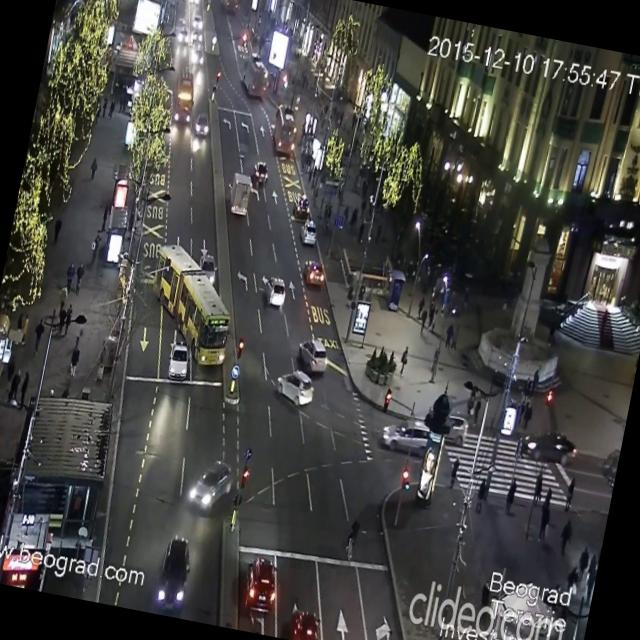bus: (137, 239, 244, 370), (166, 66, 202, 128), (271, 101, 304, 161), (235, 46, 271, 98)
car: (152, 533, 196, 613), (186, 456, 236, 516), (239, 554, 283, 616), (516, 430, 578, 468), (379, 422, 438, 461), (272, 366, 318, 408), (416, 412, 467, 444), (286, 601, 324, 640), (298, 334, 331, 375), (298, 255, 328, 292), (258, 274, 288, 308), (166, 344, 193, 379), (198, 250, 220, 286), (192, 110, 215, 142), (289, 194, 313, 221), (253, 160, 271, 186), (301, 222, 319, 247), (190, 30, 203, 48), (190, 47, 202, 66), (177, 28, 187, 48), (193, 16, 204, 28)
truck: (226, 174, 253, 218)
